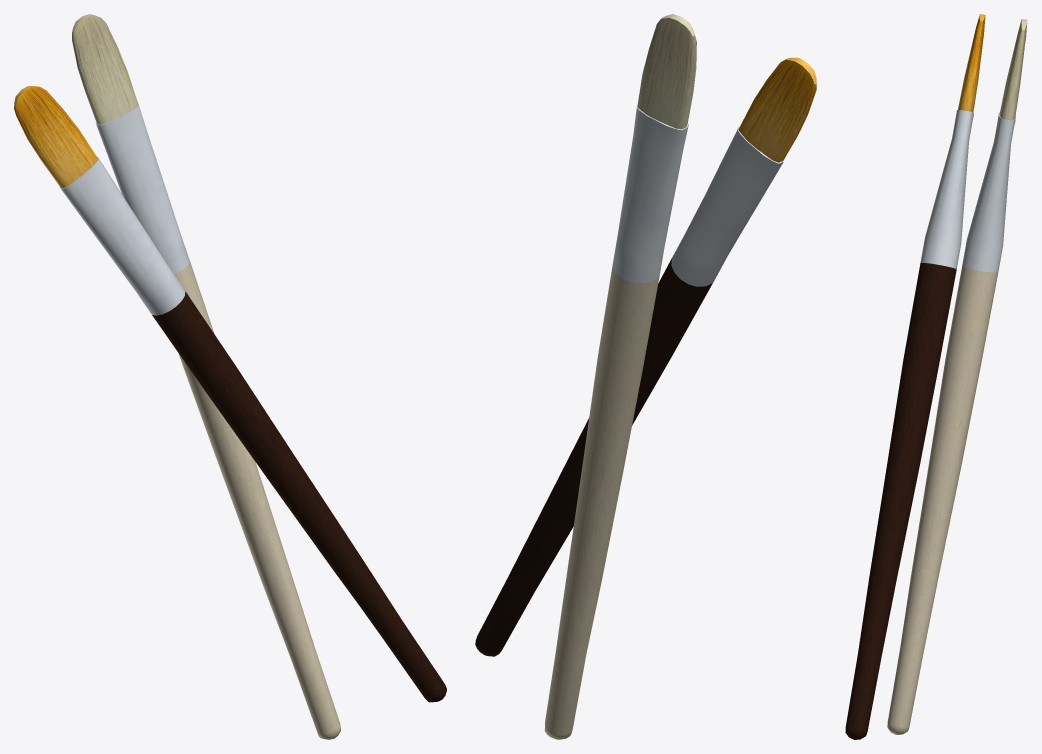
The model's file is brush-transformed.glb.
The picture shows the model from 3 angles, left to right: view 1: azimuth 30°, elevation 25°; view 2: azimuth 150°, elevation 25°; view 3: azimuth 270°, elevation 25°; orthographic projection. The views are drawn at different scales.
Parts seen in each view (by area): view 1: PaintBrush3_PaintBrush3_0, PaintBrush3v2_PaintBrush3v2_0; view 2: PaintBrush3v2_PaintBrush3v2_0, PaintBrush3_PaintBrush3_0; view 3: PaintBrush3_PaintBrush3_0, PaintBrush3v2_PaintBrush3v2_0.
Boxes of the visible parts, x1,y1,x2,y2 form: PaintBrush3_PaintBrush3_0: (14, 86, 446, 702); PaintBrush3v2_PaintBrush3v2_0: (72, 14, 340, 739); PaintBrush3v2_PaintBrush3v2_0: (544, 14, 696, 739); PaintBrush3_PaintBrush3_0: (475, 57, 816, 656); PaintBrush3_PaintBrush3_0: (845, 14, 985, 739); PaintBrush3v2_PaintBrush3v2_0: (887, 19, 1027, 734).
Bounding box in the file's own units: 0.1117 × 0.2109 × 0.0544.
2 materials, 2 textured.
